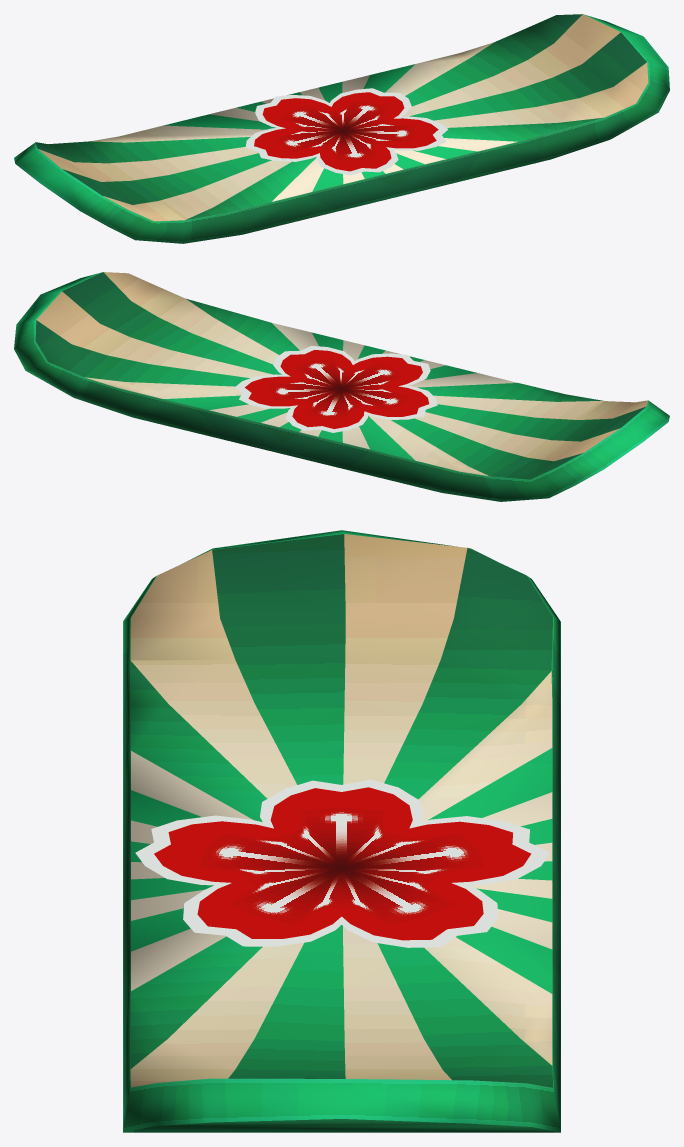
The model's file is CherryBoard.glb.
3 renders of one model, top to bottom at view 1: azimuth 30°, elevation 25°; view 2: azimuth 150°, elevation 25°; view 3: azimuth 270°, elevation 25°, orthographic. The views are drawn at different scales.
Visible parts, largest first — view 1: CherryBoard; view 2: CherryBoard; view 3: CherryBoard.
Boxes of the visible parts, x1,y1,x2,y2 form: CherryBoard: [14, 14, 669, 243]; CherryBoard: [14, 272, 669, 501]; CherryBoard: [123, 530, 560, 1132].
Size of the model in its own units: 8.78 by 0.807 by 2.76.
Materials: 1 (1 with a texture image).
